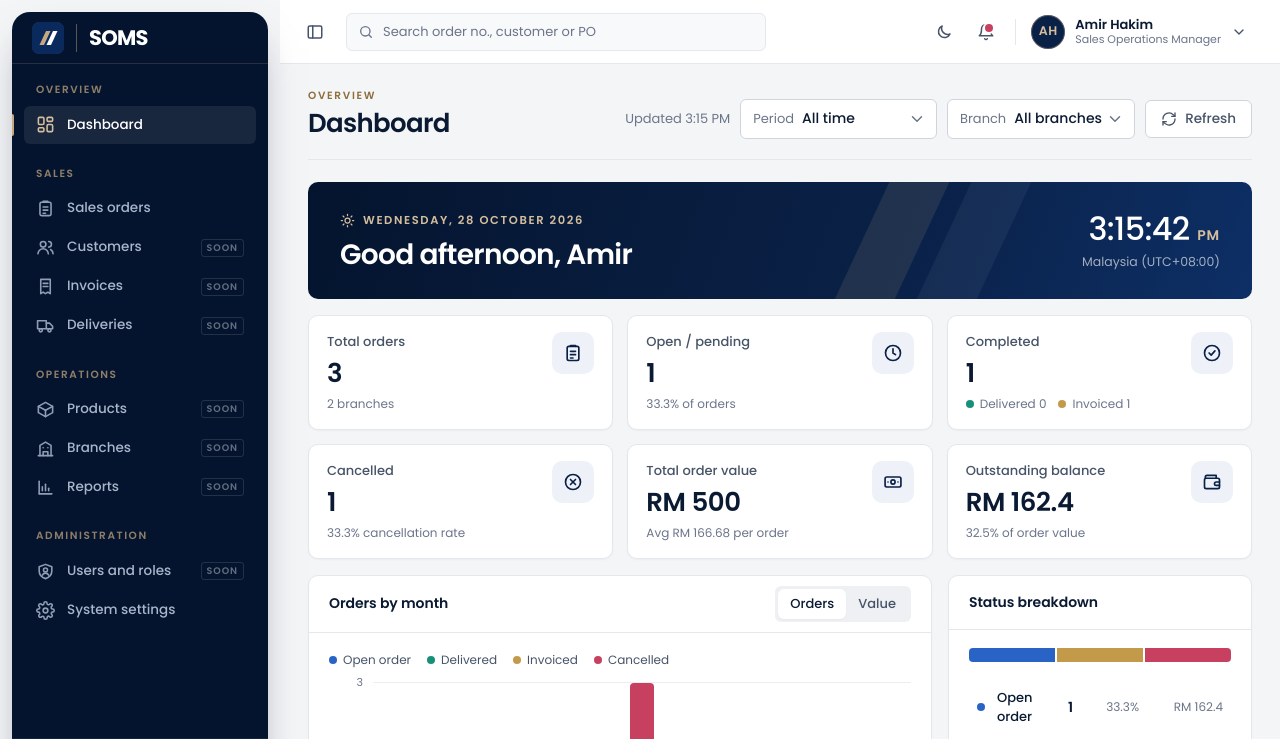
it: Signed-in system › narrows the dashboard to a custom date range
Expected: the text "Total orders" is shown, [327,332,405,351]
Select "Custom range" in the dropdown labelled "Period": (868, 119) [800,100,936,138]
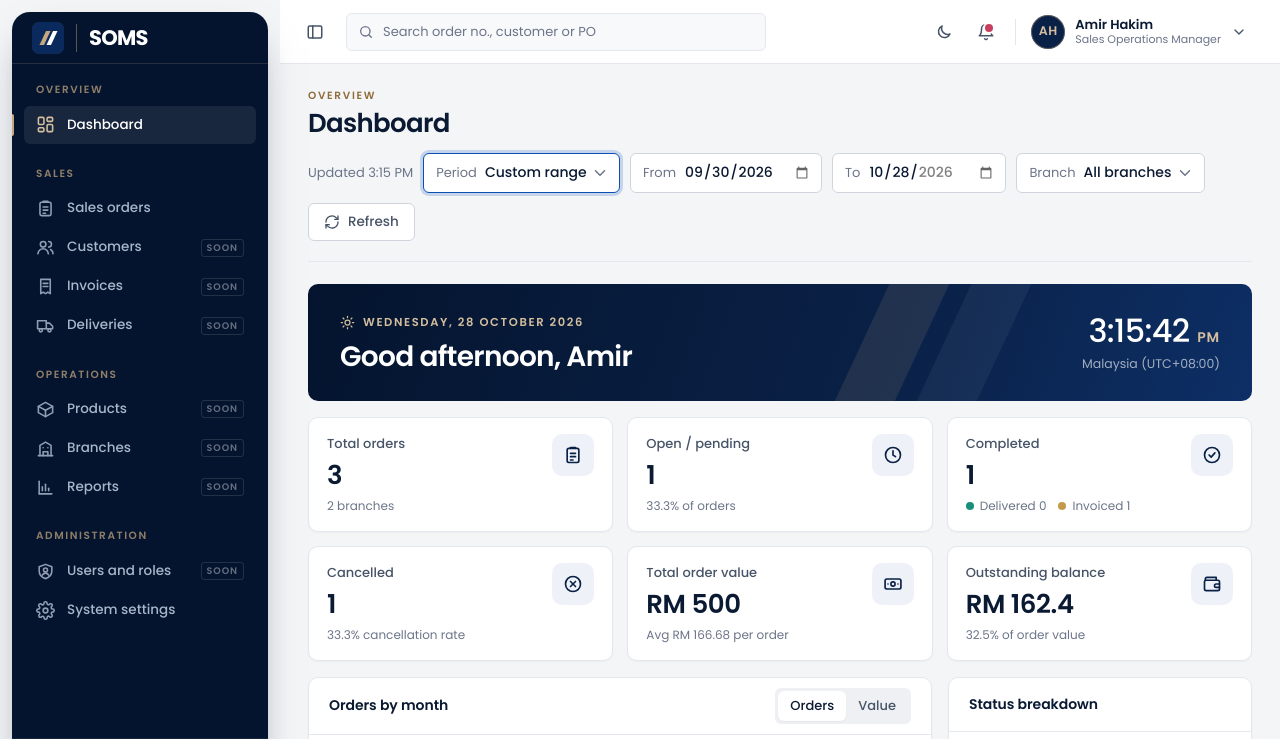
Expected: the date field labelled "From" holds "2026-09-30"
In the date field labelled "From": (752, 173) [682,154,821,192], type "2026-10-01"
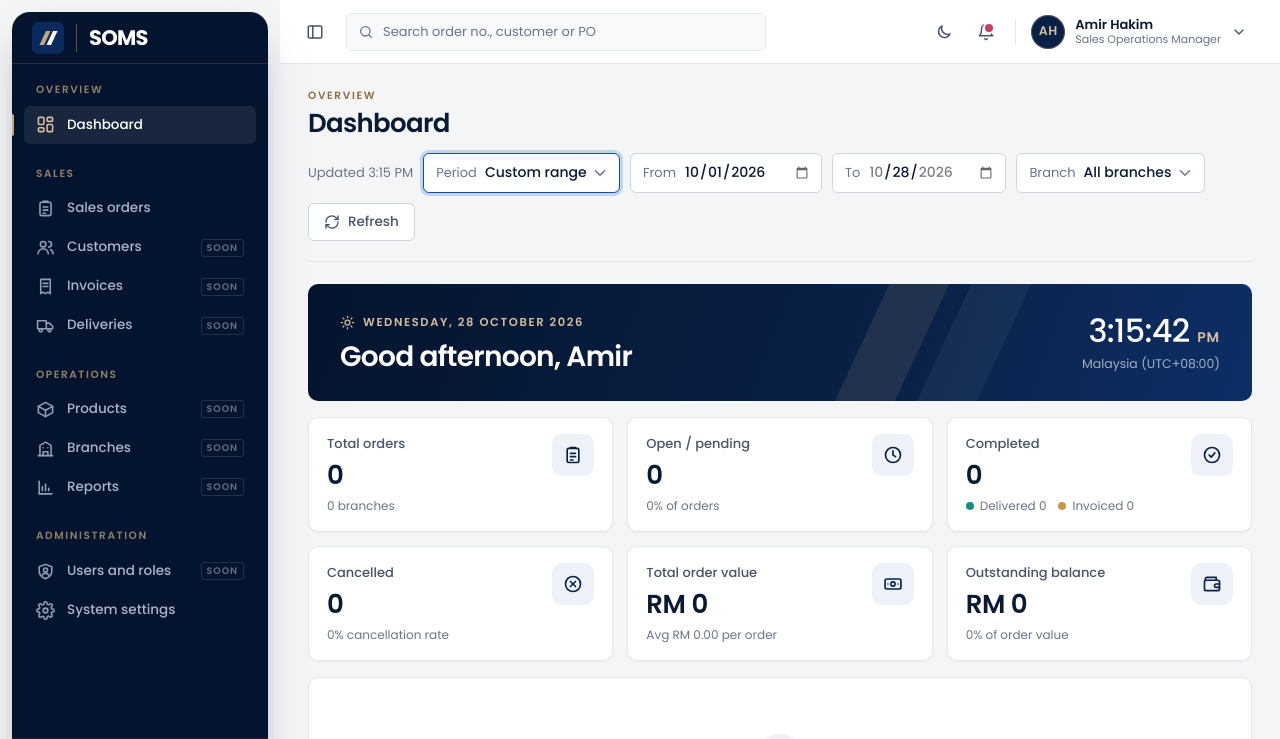
Select "All time" in the dropdown labelled "Period": (551, 173) [483,154,619,192]
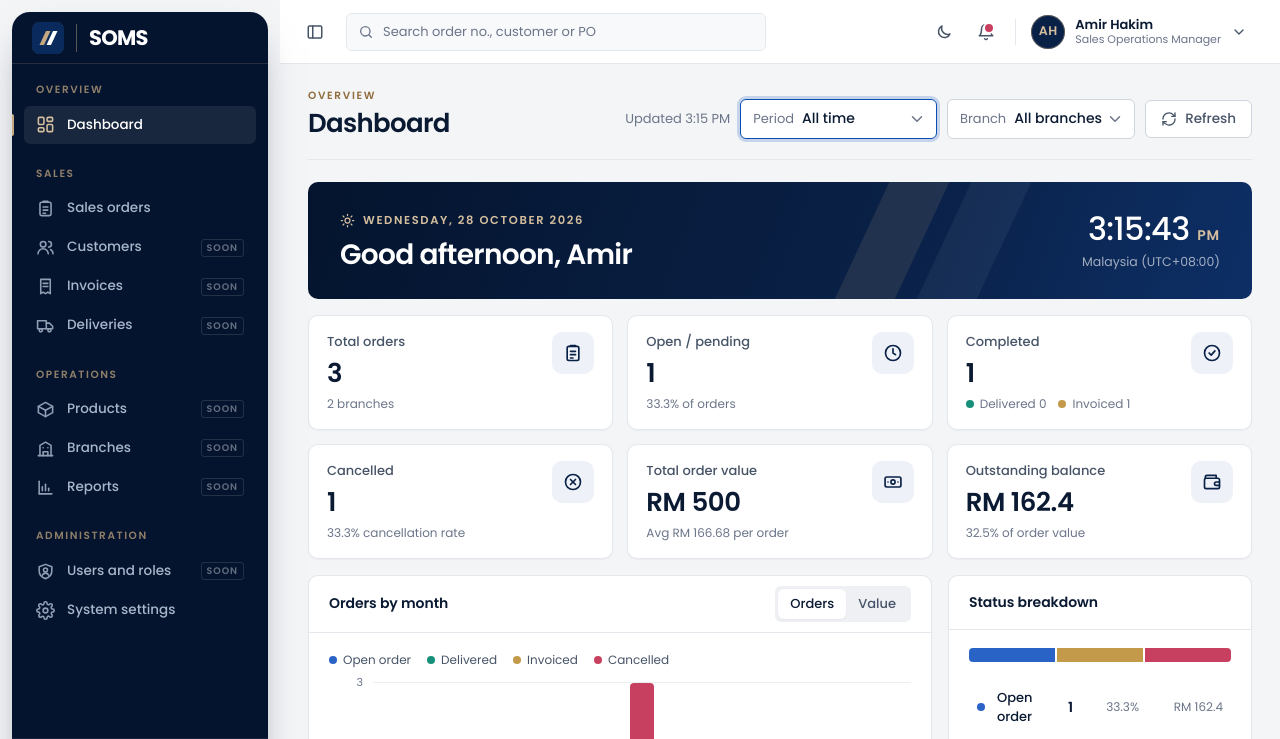
Expected: the label labelled "From" is gone
